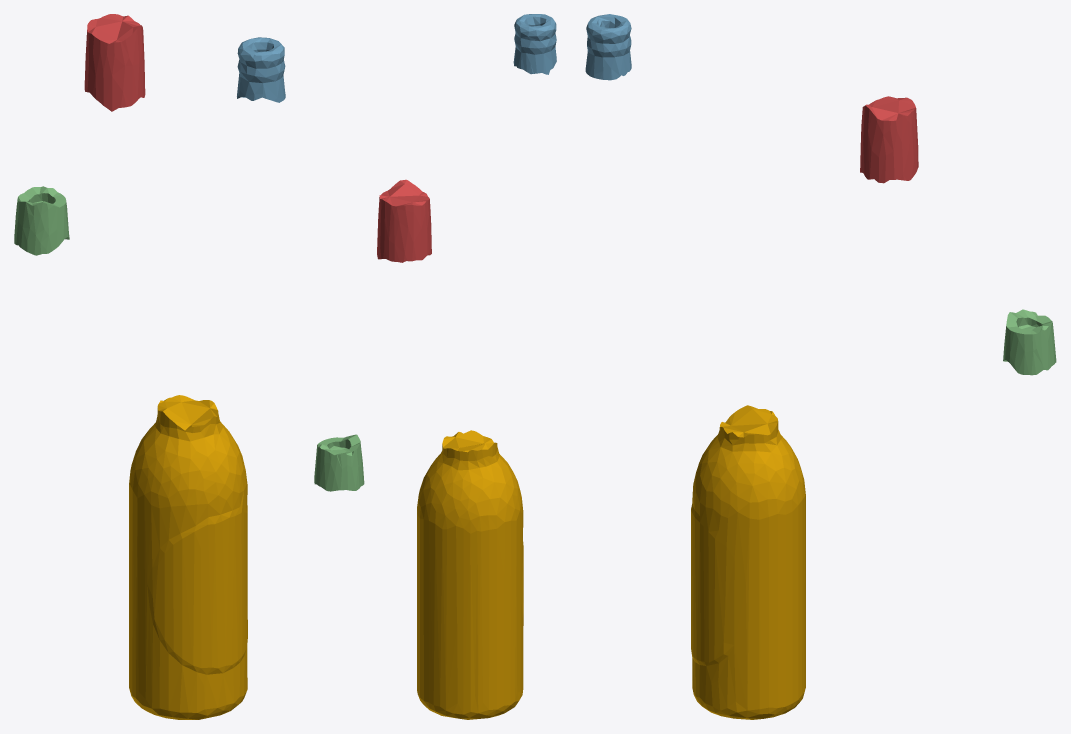
File: fractured_13_4pcs_transformed.glb
3 renders of one model, left to right at view 1: azimuth 30°, elevation 25°; view 2: azimuth 150°, elevation 25°; view 3: azimuth 270°, elevation 25°, orthographic. The views are drawn at different scales.
Parts seen in each view (by area): view 1: piece_0.obj, piece_1.obj, piece_3.obj, piece_2.obj; view 2: piece_0.obj, piece_1.obj, piece_3.obj, piece_2.obj; view 3: piece_0.obj, piece_1.obj, piece_3.obj, piece_2.obj.
Boxes of the visible parts, box(x1,y1,x2,y2) form: piece_0.obj: box(129, 395, 247, 719); piece_1.obj: box(84, 14, 145, 111); piece_3.obj: box(14, 186, 69, 255); piece_2.obj: box(237, 37, 285, 102); piece_0.obj: box(417, 430, 523, 719); piece_1.obj: box(377, 179, 431, 262); piece_3.obj: box(314, 434, 364, 491); piece_2.obj: box(513, 14, 556, 74); piece_0.obj: box(691, 405, 805, 719); piece_1.obj: box(860, 96, 918, 183); piece_3.obj: box(1003, 309, 1056, 375); piece_2.obj: box(585, 14, 631, 80).
Size of the model in its own units: 0.2434 by 1.6 by 1.01.
